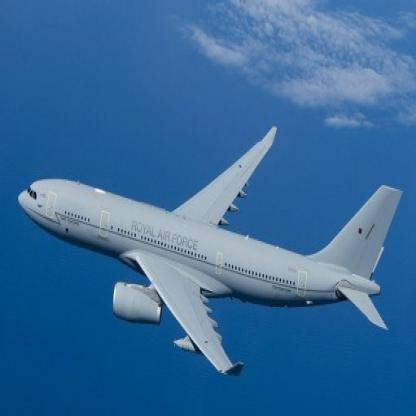CIV_Plane: (15, 123, 403, 380)
